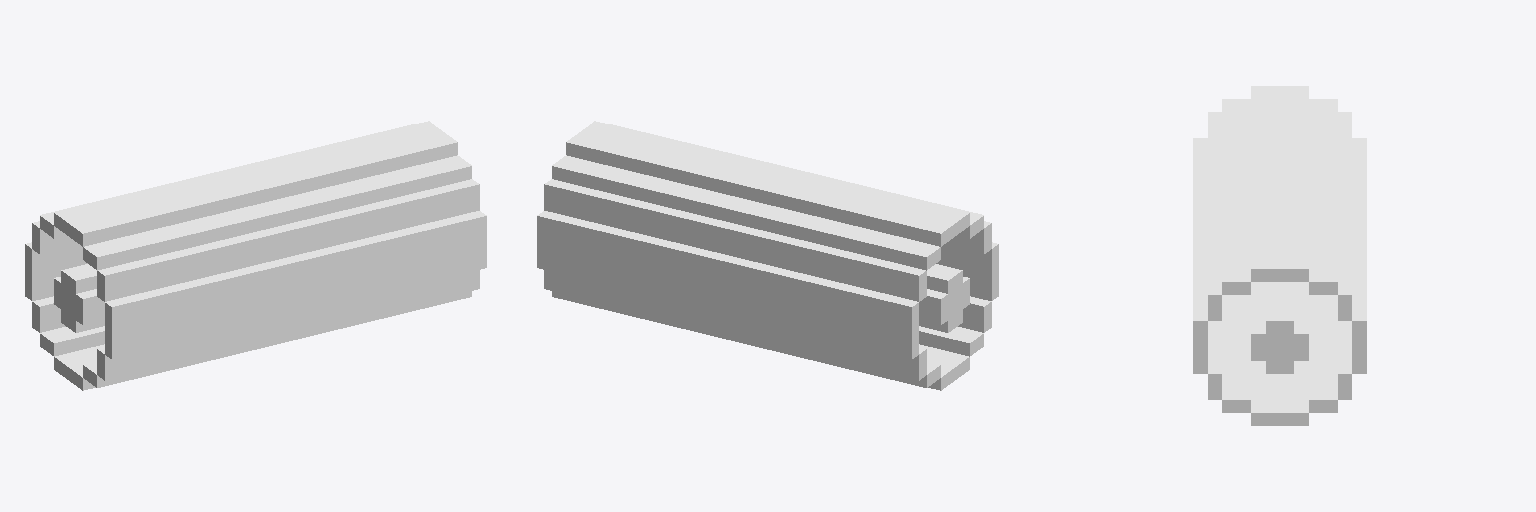
File: beam.obj
The picture shows the model from 3 angles: view 1: azimuth 30°, elevation 25°; view 2: azimuth 150°, elevation 25°; view 3: azimuth 270°, elevation 25°; orthographic projection.
Bounding box in the file's own units: 30 × 12 × 12.